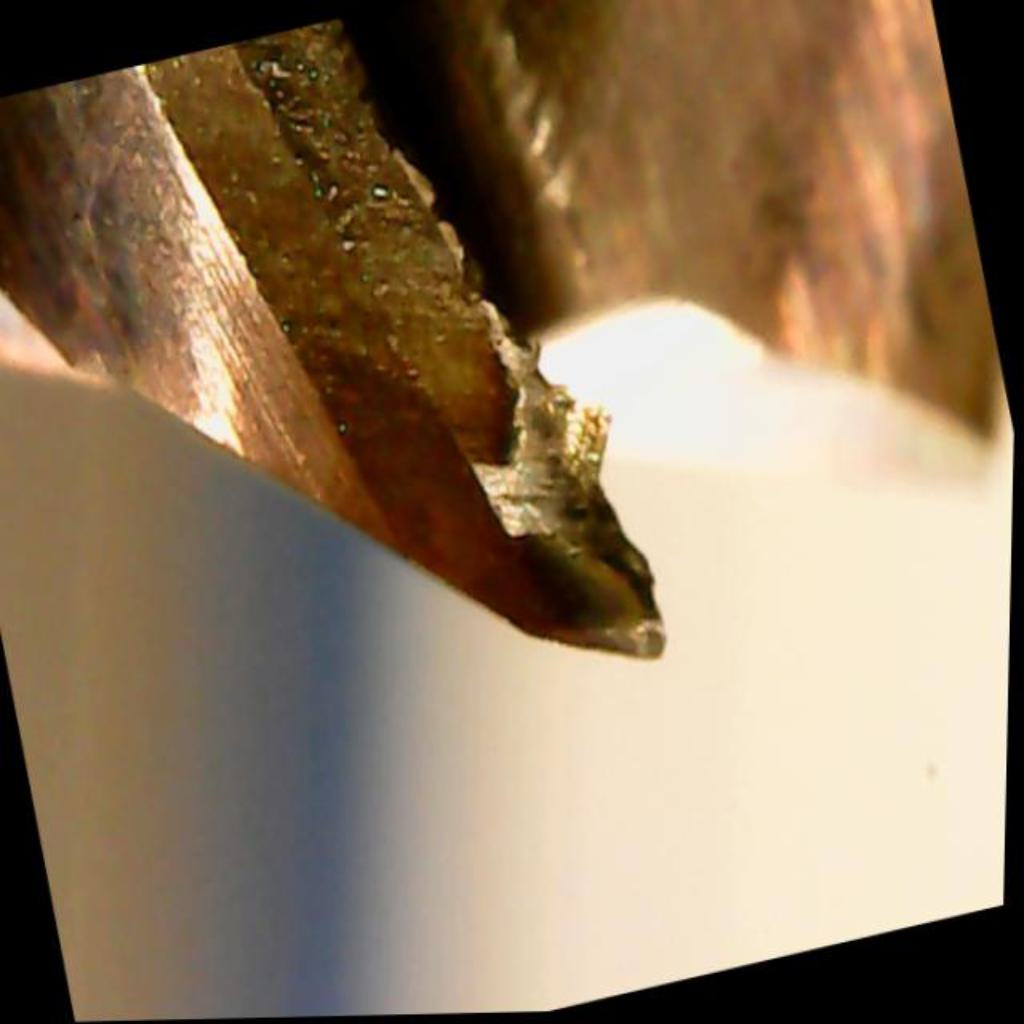Tool-wear-class-3: (352, 300, 713, 734)
